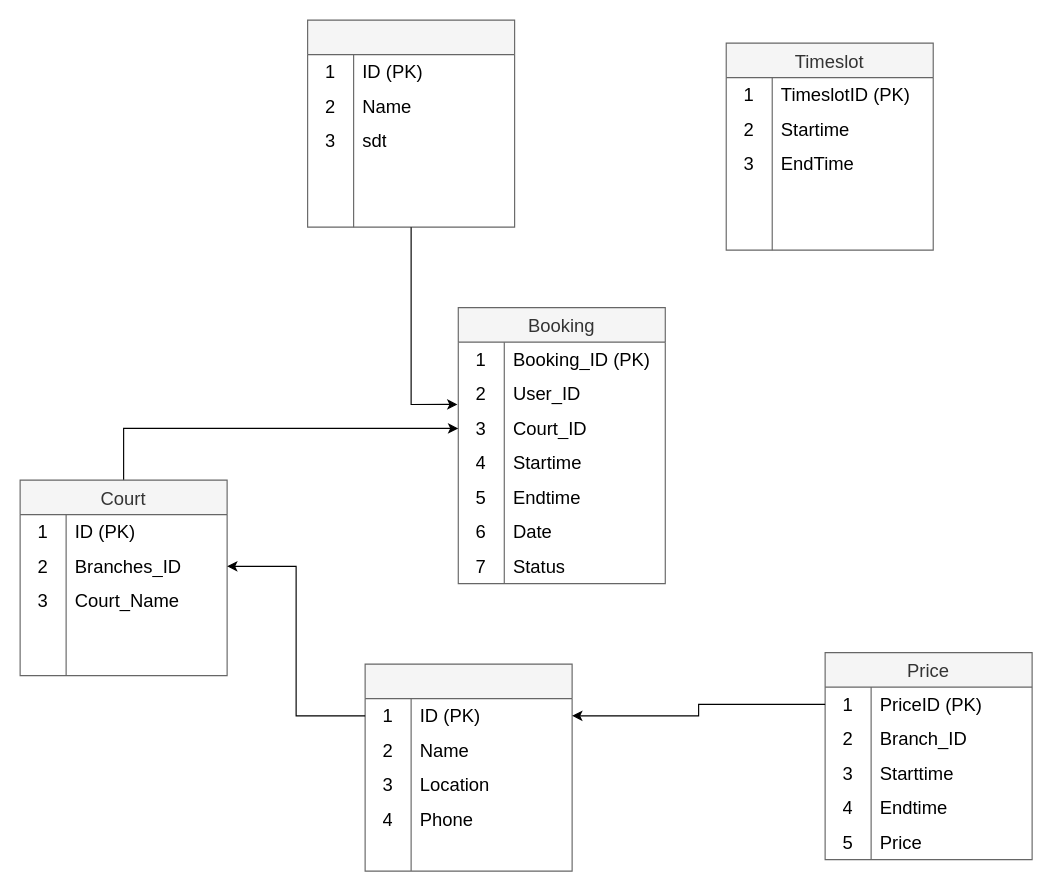
This 1052x891 diagram has some shape labels left out. The box of each missing label's shape, as (x1, y1, x2, y2) in pixels:
Branches: (364, 663, 572, 871)
user: (306, 19, 515, 227)
